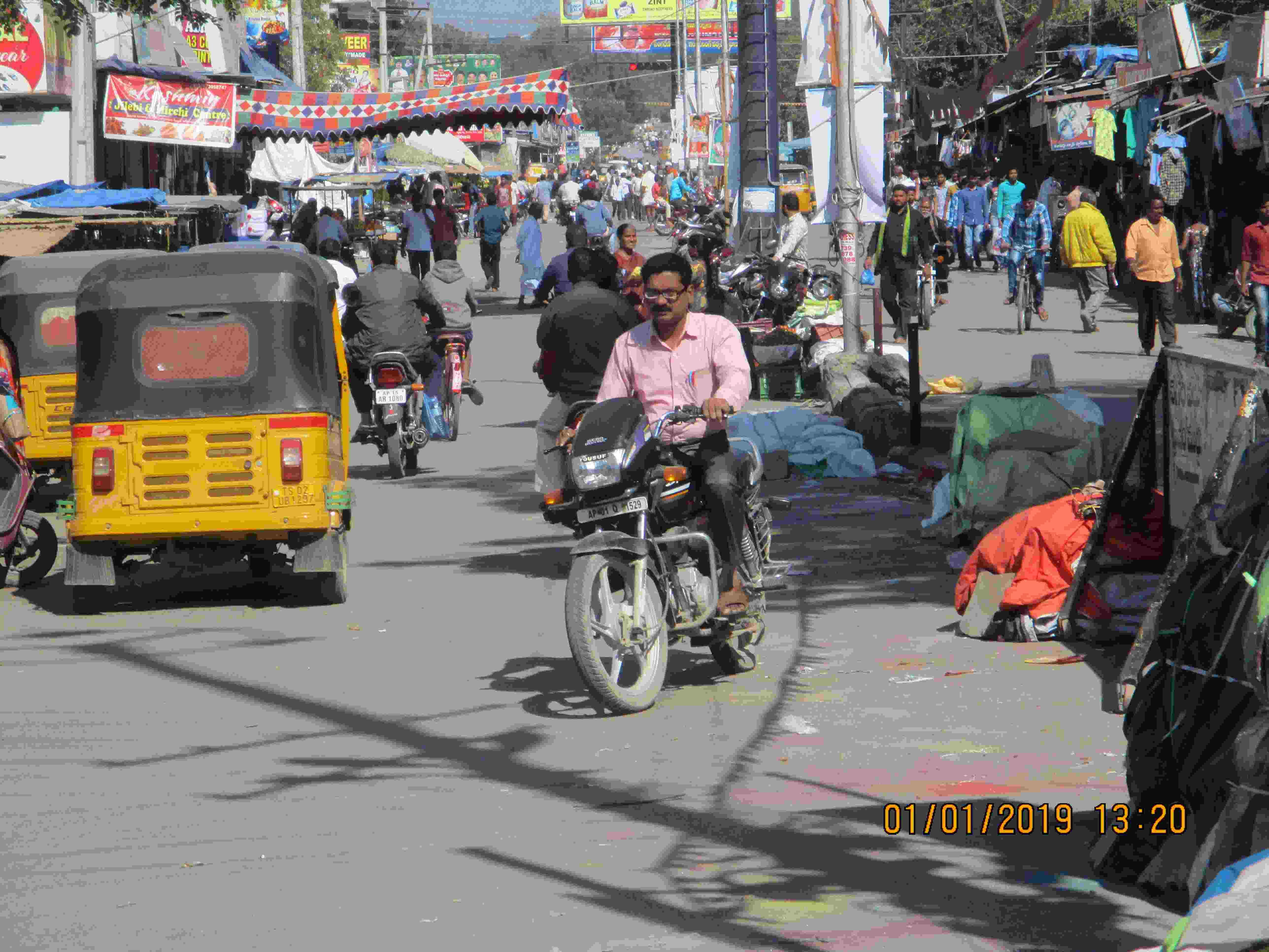plate: (575, 496, 649, 524), (369, 383, 411, 409)
